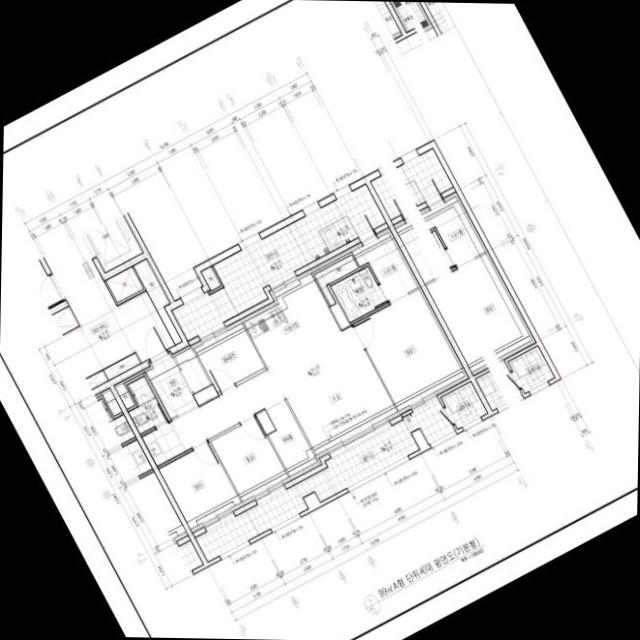background: (0, 0, 640, 640)
space_balconi: (195, 398, 455, 561), (172, 184, 386, 340)
space_bedroom: (353, 289, 464, 409), (159, 441, 241, 529), (210, 416, 288, 501)
space_dressroom: (352, 232, 418, 302)
space_elevator_hall: (43, 214, 175, 377)
space_front: (146, 357, 198, 418)
space_kitchen: (244, 273, 341, 369)
space_living_room: (170, 325, 397, 454)
space_other: (194, 323, 266, 395), (133, 258, 182, 344), (265, 398, 317, 475), (314, 254, 358, 305), (175, 347, 211, 394), (106, 266, 143, 302), (327, 284, 350, 330), (103, 352, 141, 379), (193, 384, 218, 405), (115, 383, 135, 409), (255, 409, 275, 434), (201, 266, 220, 291)
space_outdoor_room: (441, 381, 487, 428)
space_toilet: (127, 376, 185, 465), (330, 266, 387, 322)
